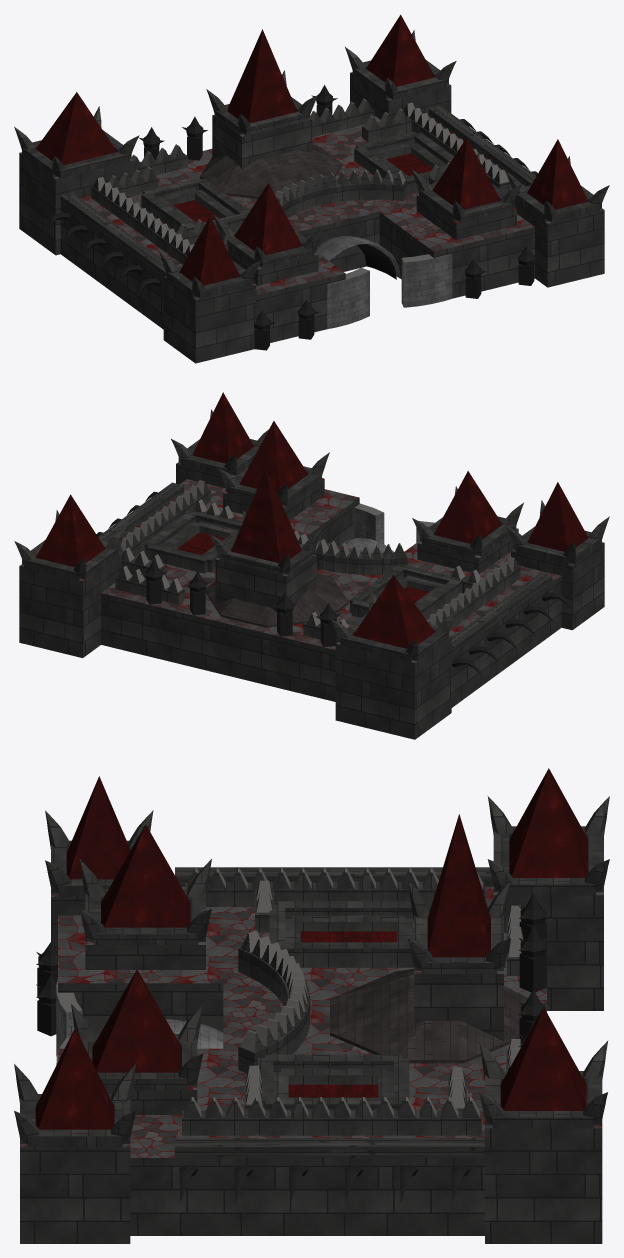
The model's file is Tarbuild03.glb.
3 renders of one model, top to bottom at view 1: azimuth 30°, elevation 25°; view 2: azimuth 150°, elevation 25°; view 3: azimuth 270°, elevation 25°, orthographic. The views are drawn at different scales.
Visible parts, largest first — view 1: Tarbuild03; view 2: Tarbuild03; view 3: Tarbuild03.
Part boxes in pixels (x1,y1,x2,y2): Tarbuild03: (14, 14, 609, 363); Tarbuild03: (14, 392, 609, 739); Tarbuild03: (14, 768, 609, 1243).
Size of the model in its own units: 21.8 by 9.1 by 17.3.
Materials: 9 (6 with a texture image).
